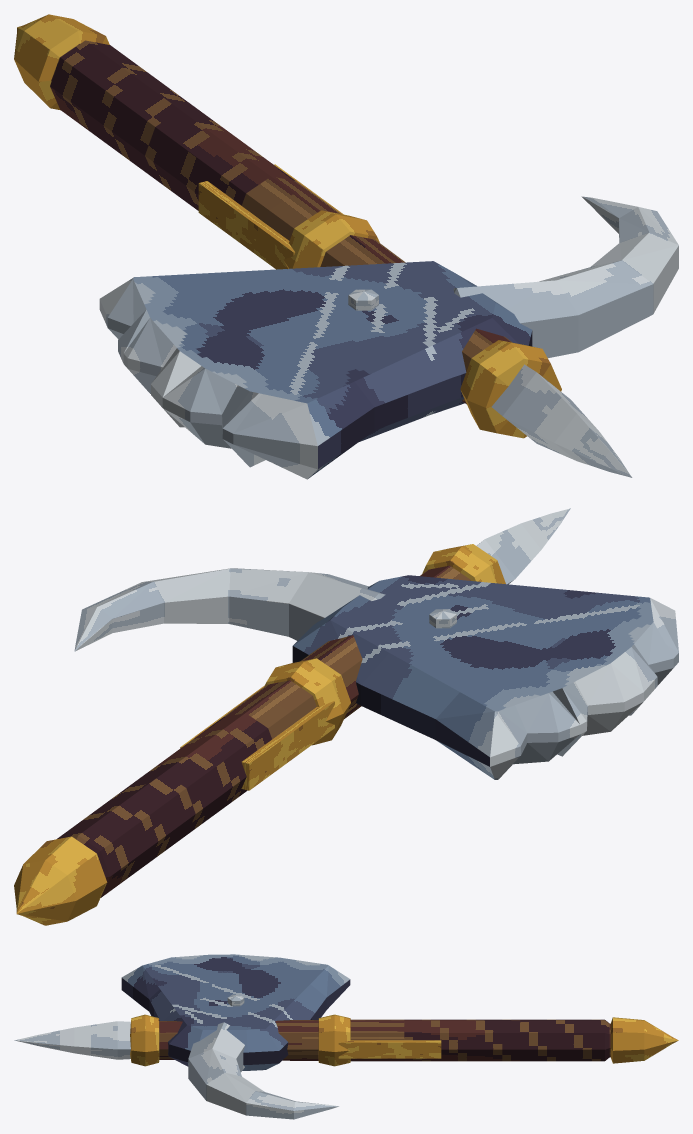
The model's file is axt-c3-schartig.glb.
3 renders of one model, top to bottom at view 1: azimuth 30°, elevation 25°; view 2: azimuth 150°, elevation 25°; view 3: azimuth 270°, elevation 25°, orthographic. The views are drawn at different scales.
Visible parts, largest first — view 1: axe; view 2: axe; view 3: axe.
Boxes of the visible parts, bbox=[...] form: axe: bbox=[14, 14, 678, 479]; axe: bbox=[14, 508, 678, 925]; axe: bbox=[14, 954, 678, 1119].
Size of the model in its own units: 0.318 by 0.056 by 0.6066.
1 material, 1 textured.
